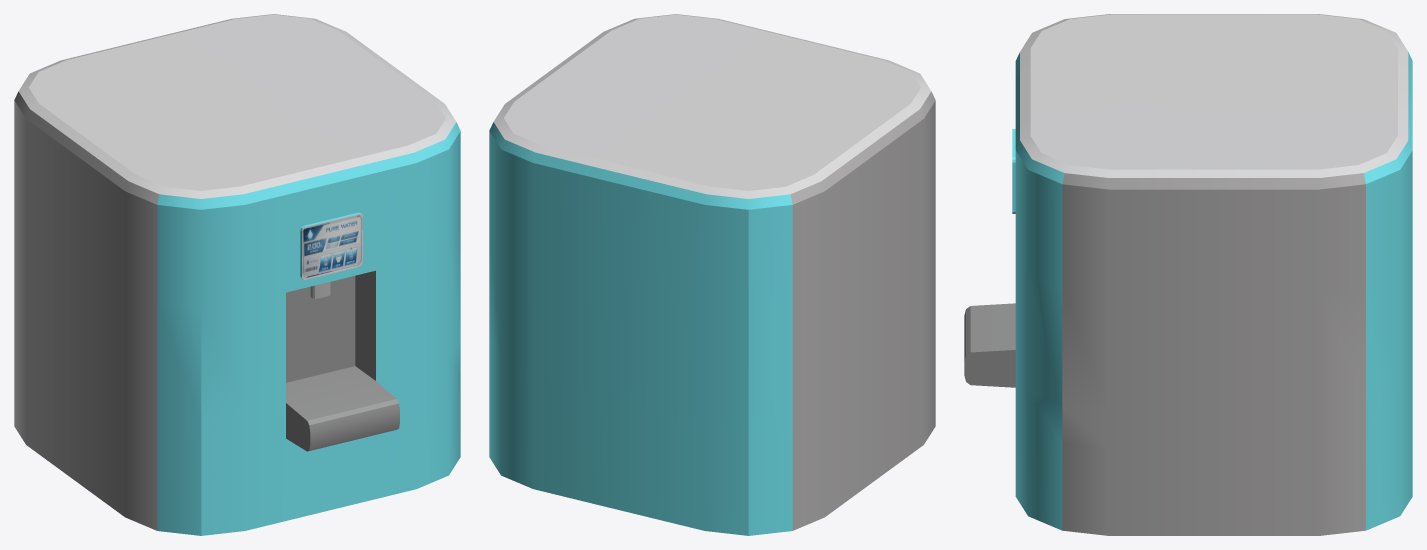
Rendered from waterBar.fbx.
3 views of the same model, side by side, from view 1: azimuth 30°, elevation 25°; view 2: azimuth 150°, elevation 25°; view 3: azimuth 270°, elevation 25° (orthographic). The views are drawn at different scales.
Parts seen in each view (by area): view 1: waterBar; view 2: waterBar; view 3: waterBar.
Boxes of the visible parts, <box> form: waterBar: <box>14,14,460,535</box>; waterBar: <box>489,14,935,535</box>; waterBar: <box>964,14,1412,535</box>.
Bounding box in the file's own units: 2240 × 2240 × 2530.
